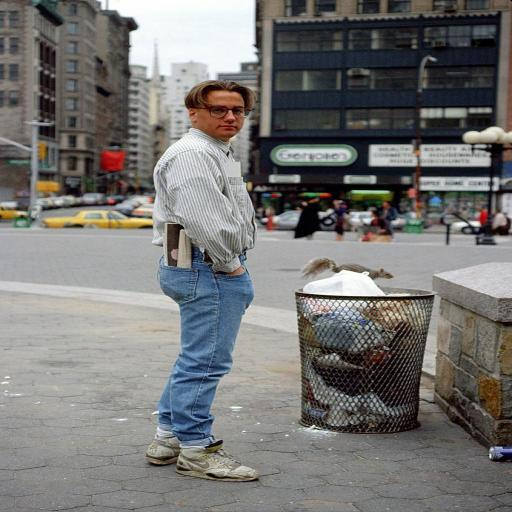trash-can: (284, 276, 444, 438)
